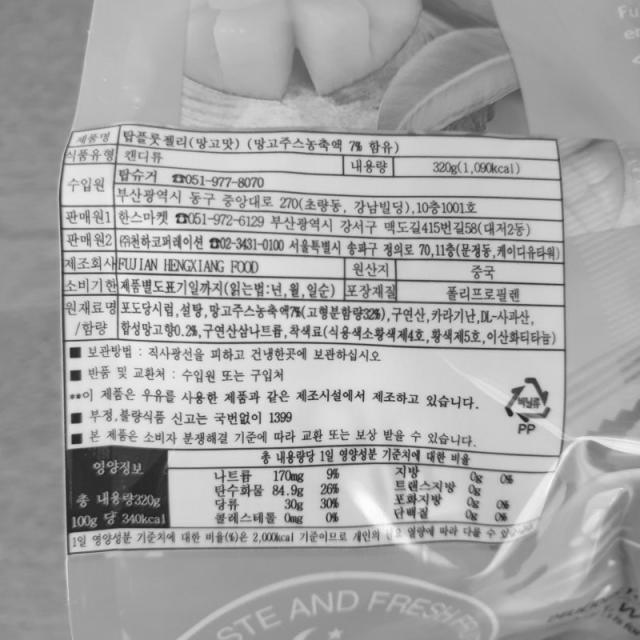Nutrition Label: (66, 440, 548, 555)
